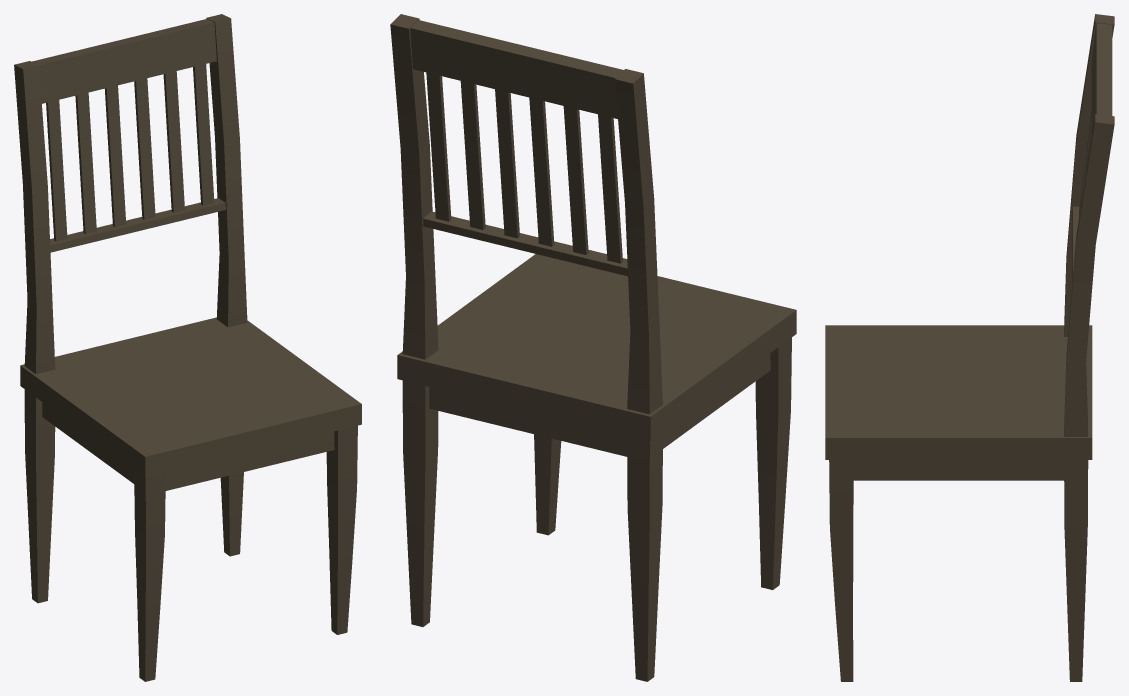
The model's file is quaternius-house-interior-chair-4.glb.
3 renders of one model, left to right at view 1: azimuth 30°, elevation 25°; view 2: azimuth 150°, elevation 25°; view 3: azimuth 270°, elevation 25°, orthographic. The views are drawn at different scales.
Visible parts, largest first — view 1: Chair_4; view 2: Chair_4; view 3: Chair_4.
Part boxes in pixels (x1=…): Chair_4: x1=14, y1=14, x2=361, y2=681; Chair_4: x1=390, y1=14, x2=796, y2=681; Chair_4: x1=825, y1=14, x2=1114, y2=681.
Size of the model in its own units: 0.7616 by 1.77 by 0.8255.
